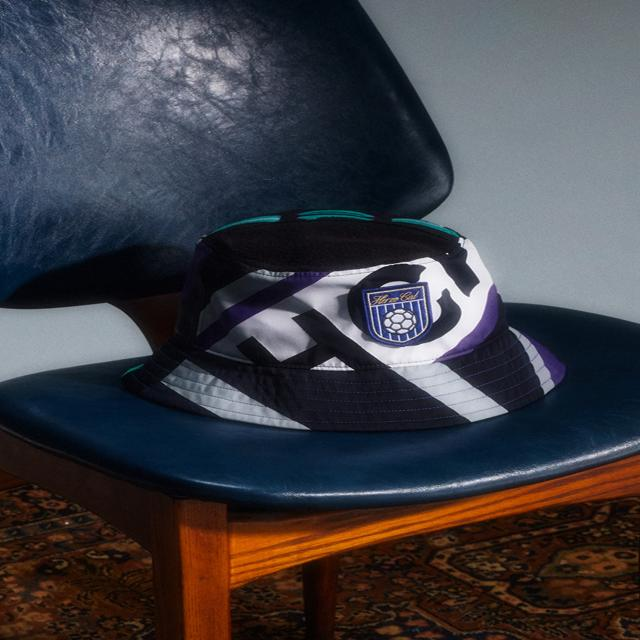Cap: (139, 171, 601, 464)
